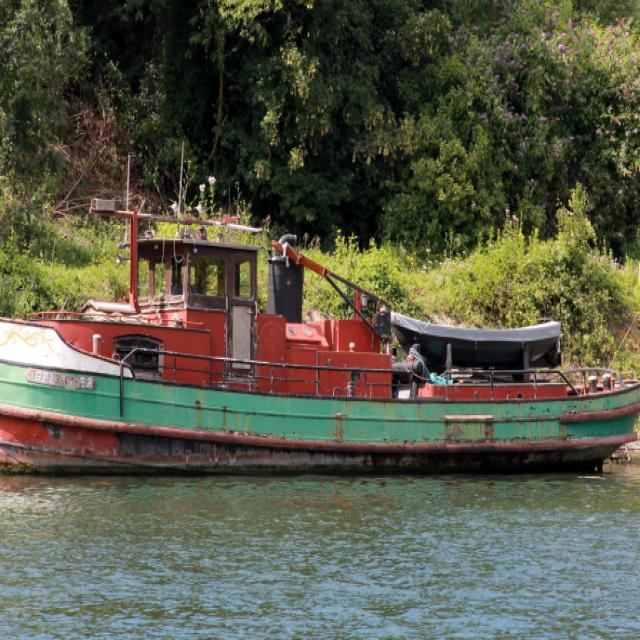tugboat: (1, 199, 640, 500)
